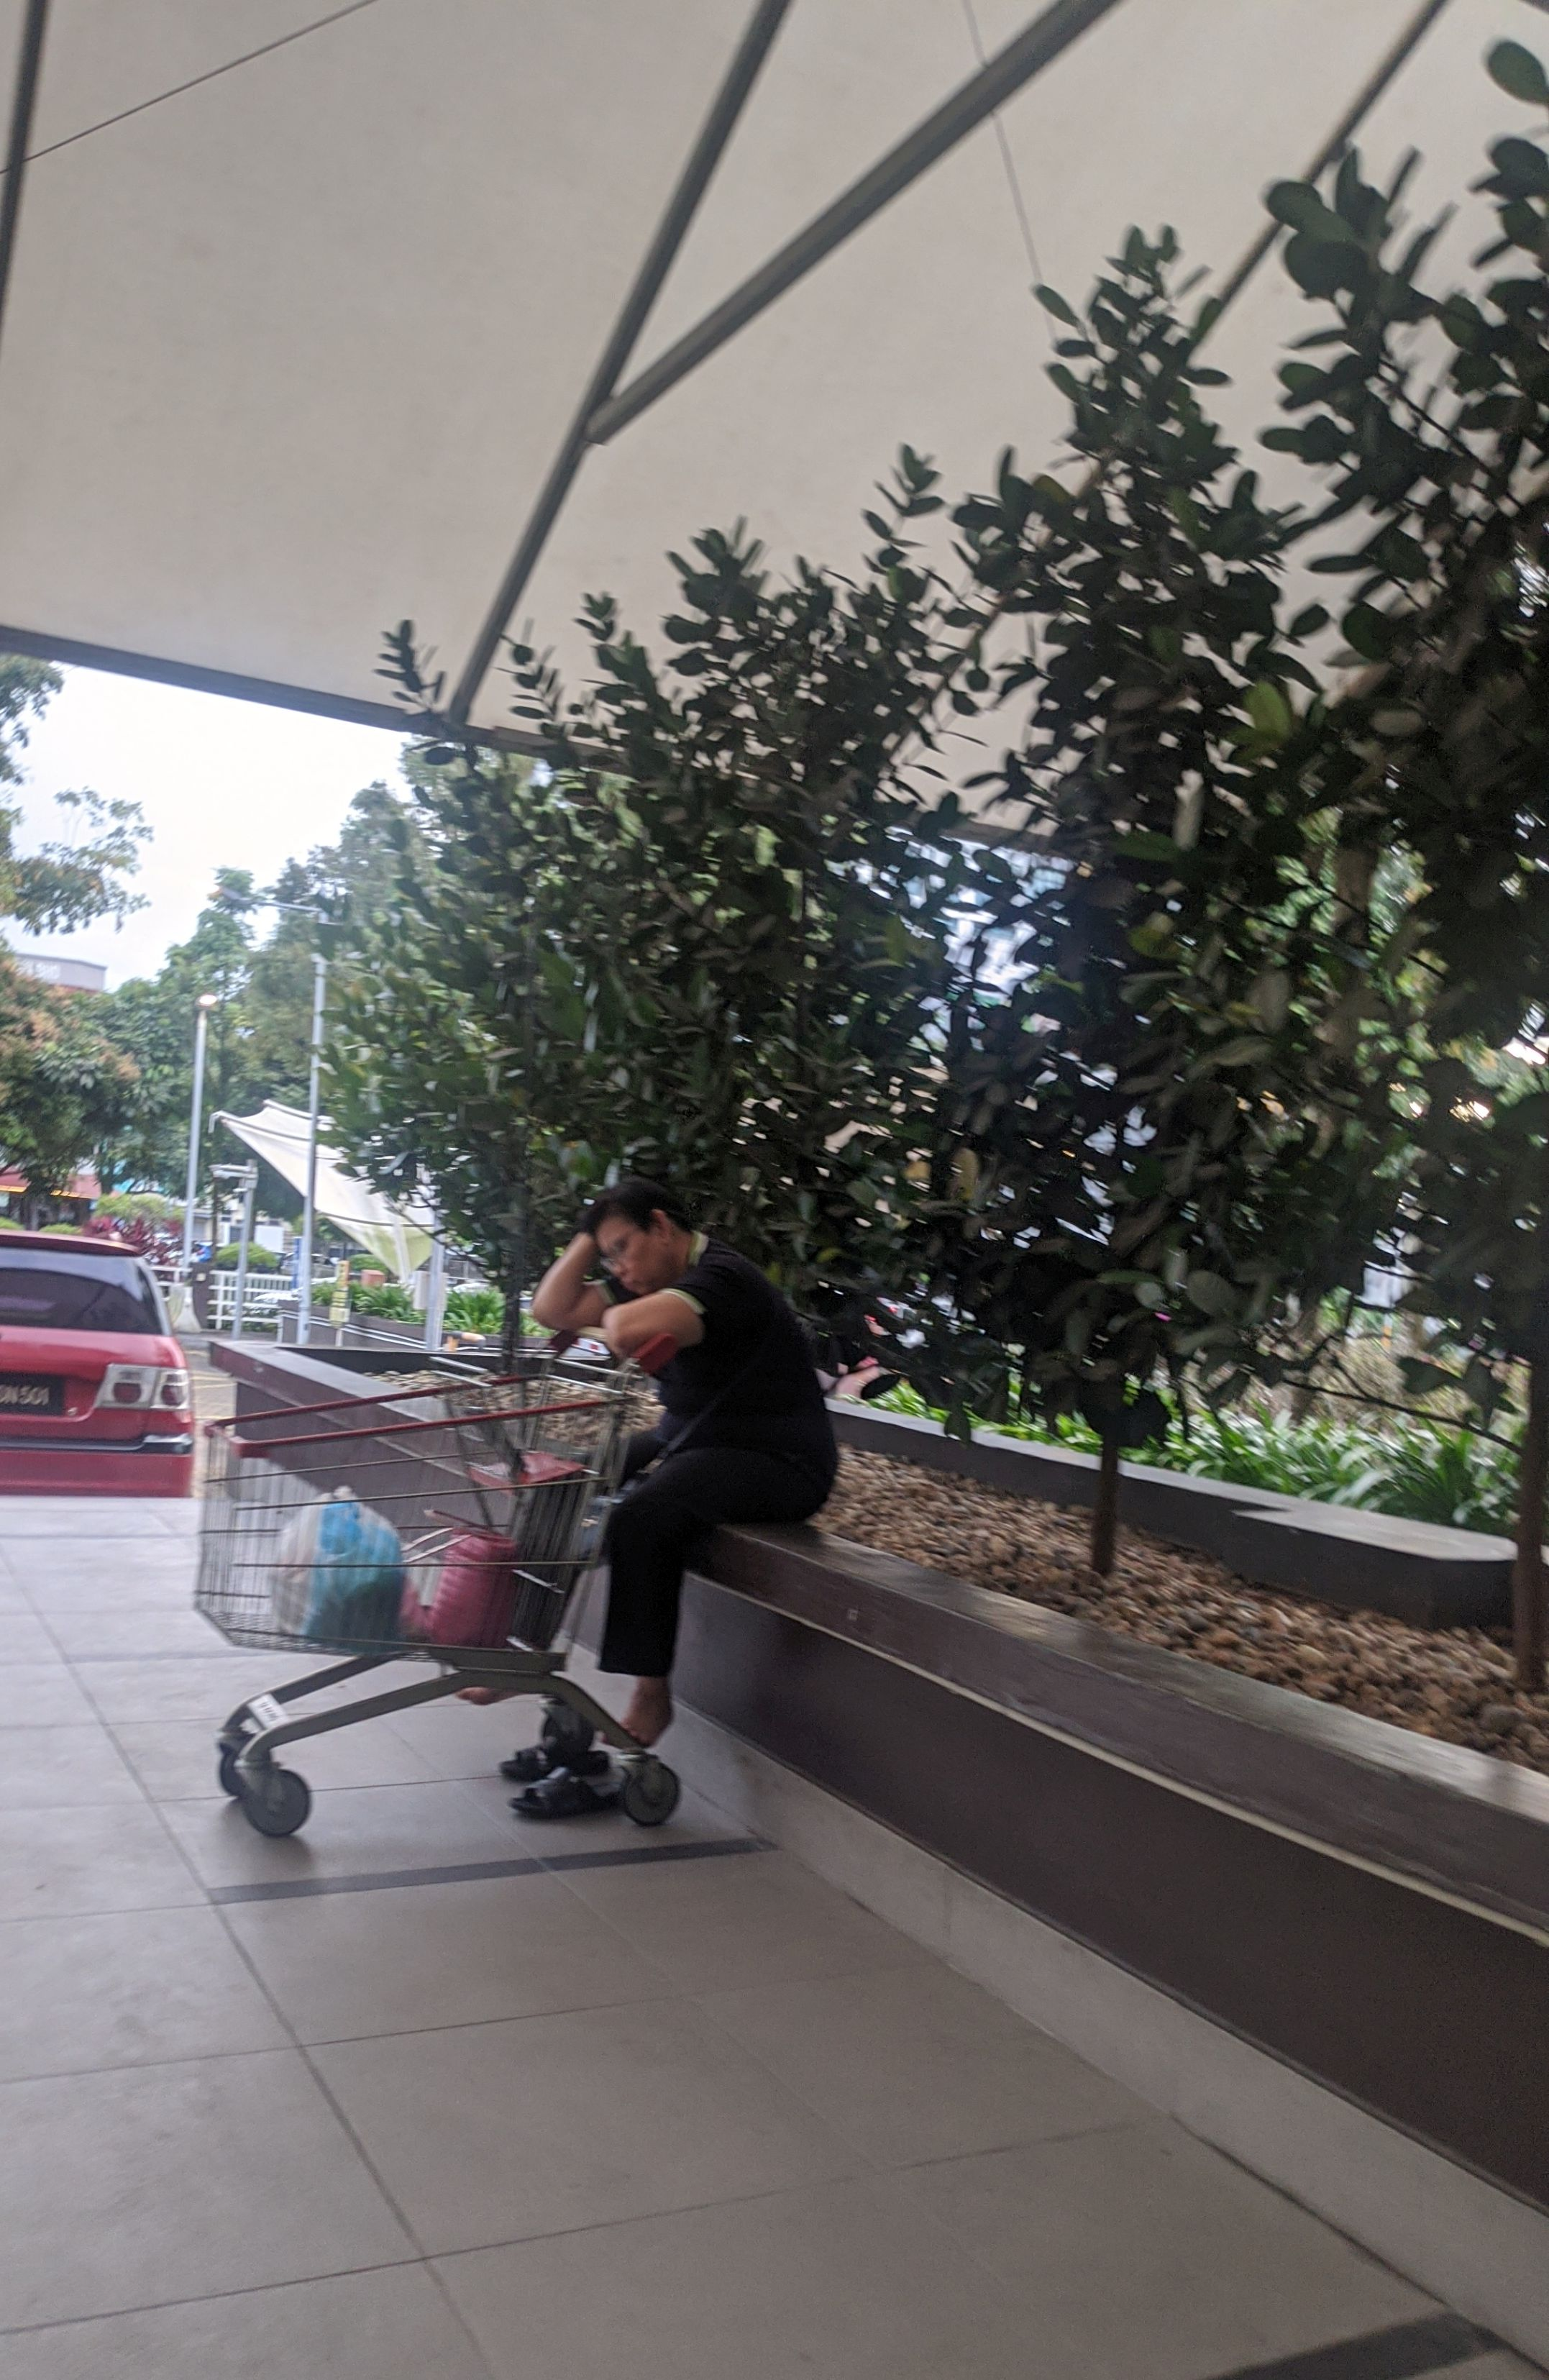sit: (345, 1140, 909, 1771)
